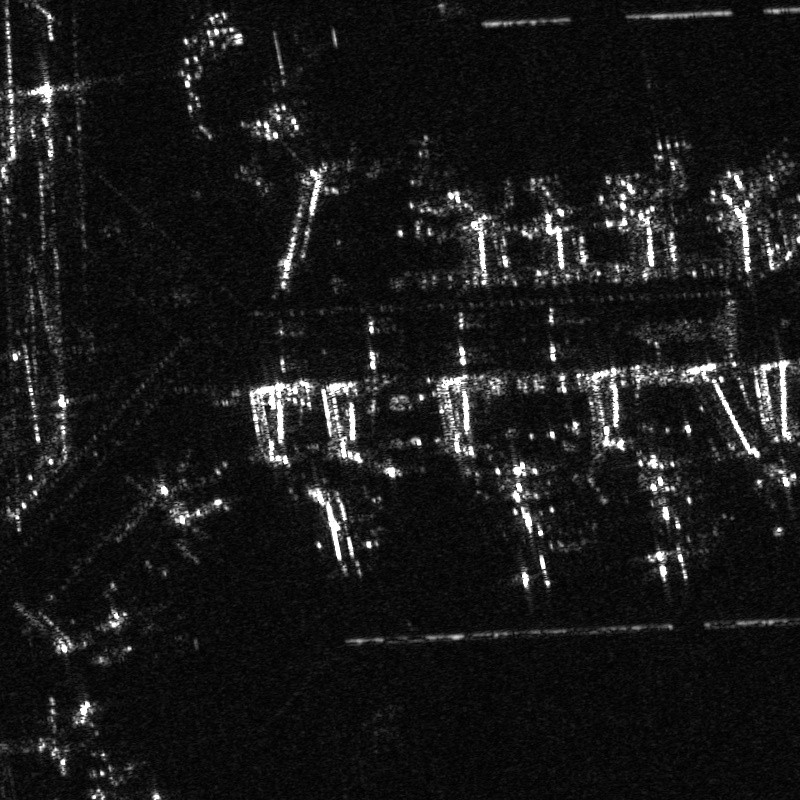Boeing737: (299, 470, 377, 576), (746, 453, 799, 542)
Boeing787: (495, 477, 580, 598)
other: (627, 471, 715, 587)
